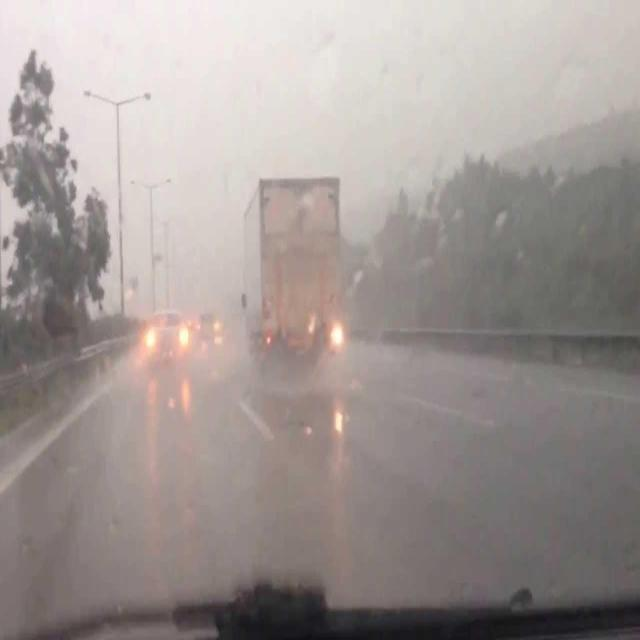Car: (142, 303, 191, 367)
Truck: (238, 168, 340, 406)
